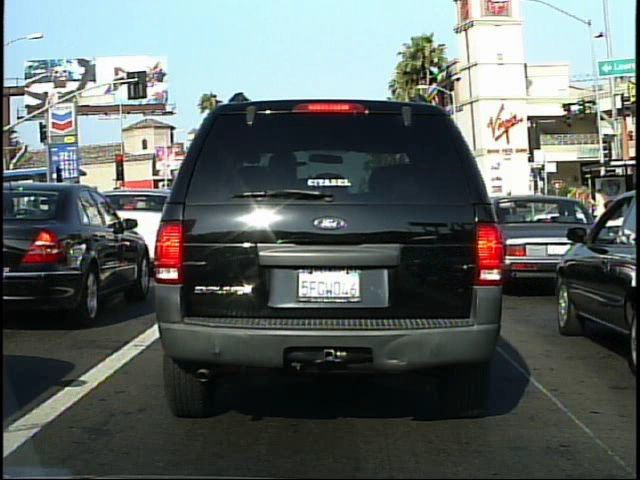person: (590, 184, 612, 245)
